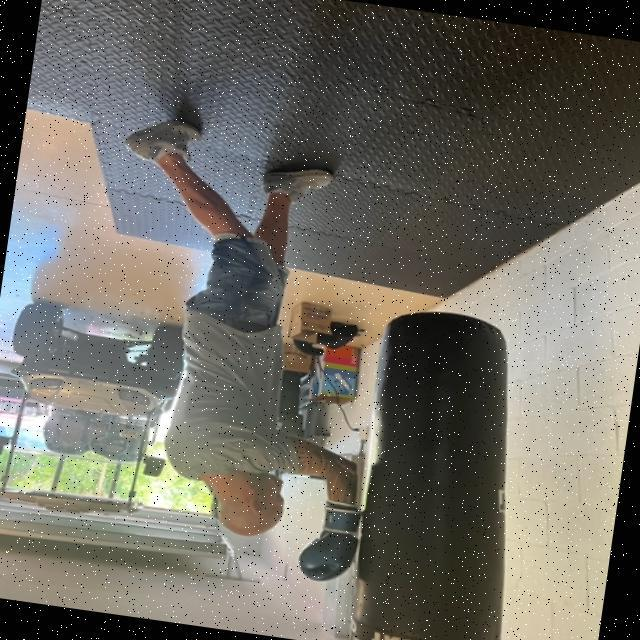uppercut: (126, 374, 392, 598)
